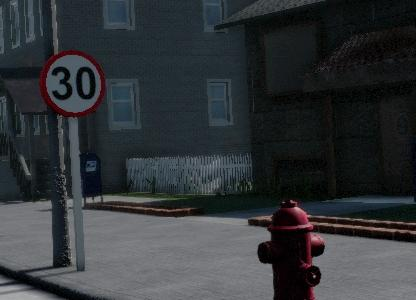Speed_30: (152, 29, 231, 113)
